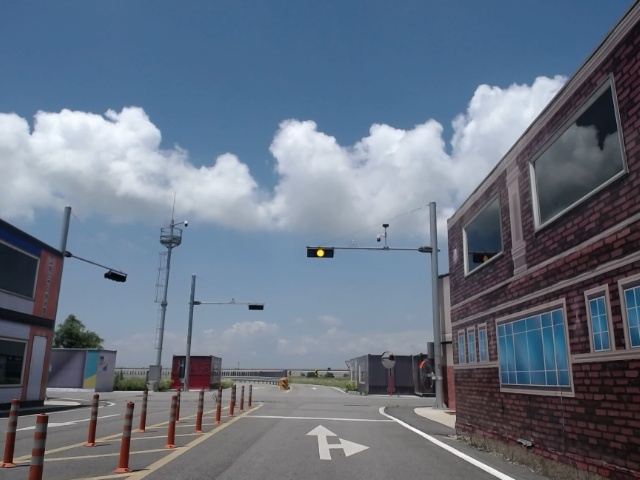orange_3: (306, 247, 335, 258)
